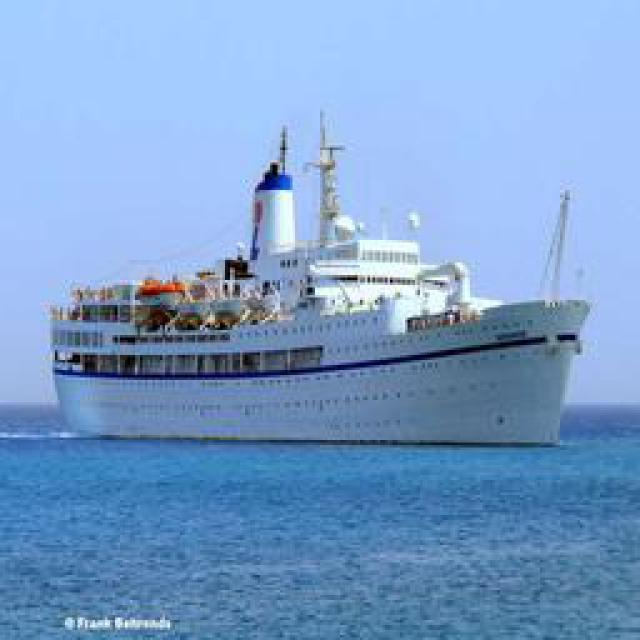Ship: (50, 125, 590, 445)
